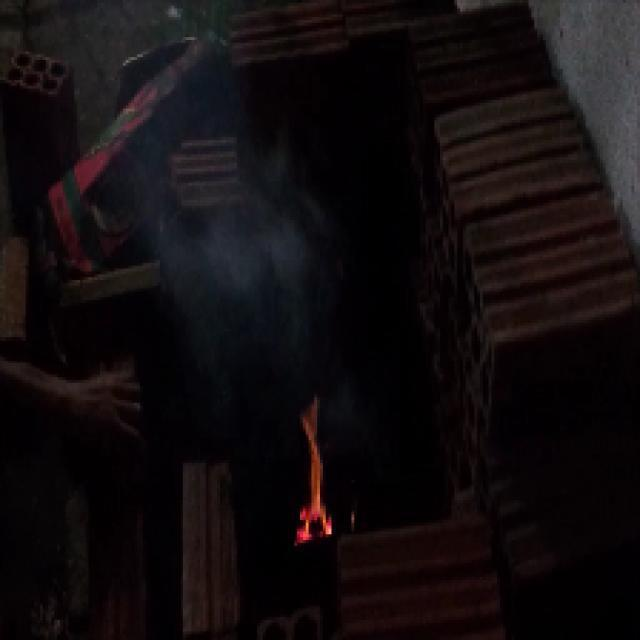fire: (96, 4, 314, 351)
smoke: (284, 390, 338, 546)
